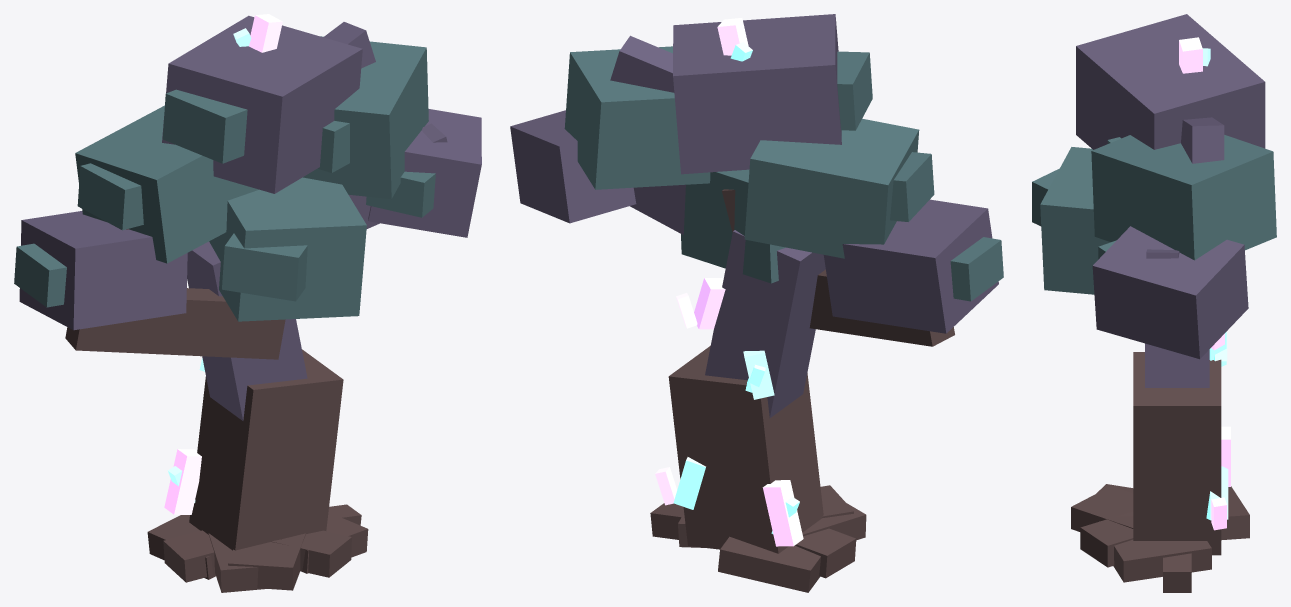
The model's file is gothic_crystal_tree.glb.
3 views of the same model, side by side, from view 1: azimuth 30°, elevation 25°; view 2: azimuth 150°, elevation 25°; view 3: azimuth 270°, elevation 25° (orthographic). The views are drawn at different scales.
Visible parts, largest first — view 1: Moonpost Crystal Moon Tree; view 2: Moonpost Crystal Moon Tree; view 3: Moonpost Crystal Moon Tree.
Boxes of the visible parts, x1,y1,x2,y2 form: Moonpost Crystal Moon Tree: (14, 14, 481, 592); Moonpost Crystal Moon Tree: (510, 14, 1003, 592); Moonpost Crystal Moon Tree: (1032, 14, 1276, 592).
Bounding box in the file's own units: 15.28 × 16.76 × 7.22.
